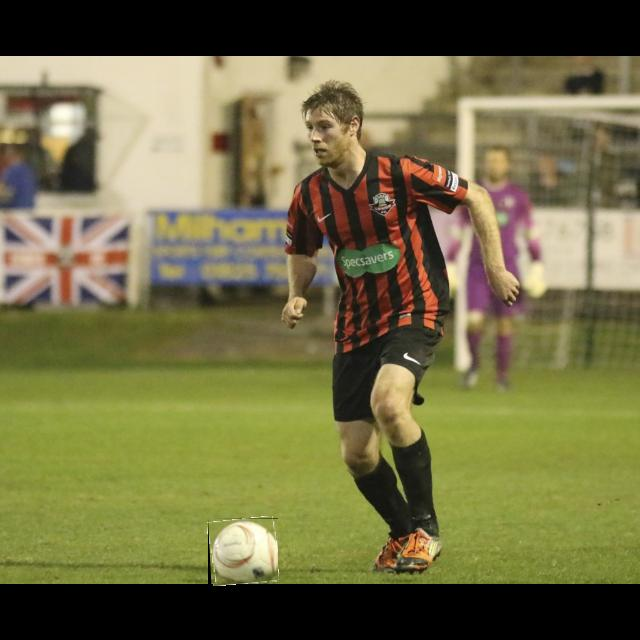Football: (208, 518, 278, 584)
